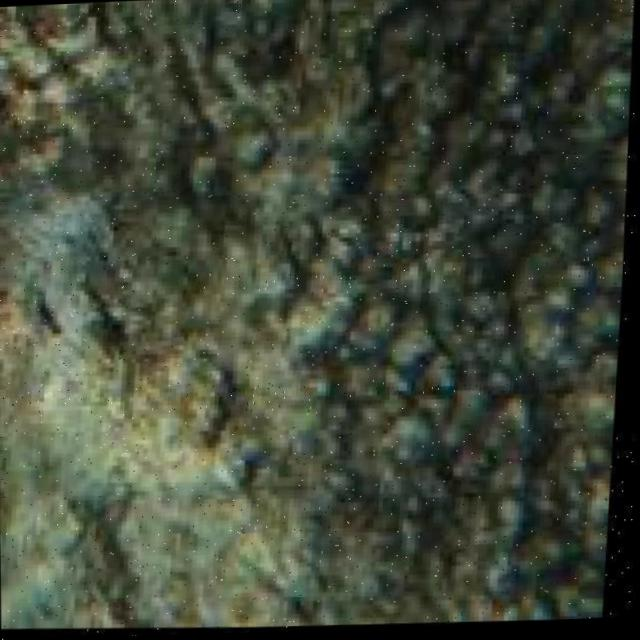Dead Coral: (344, 0, 620, 595)
